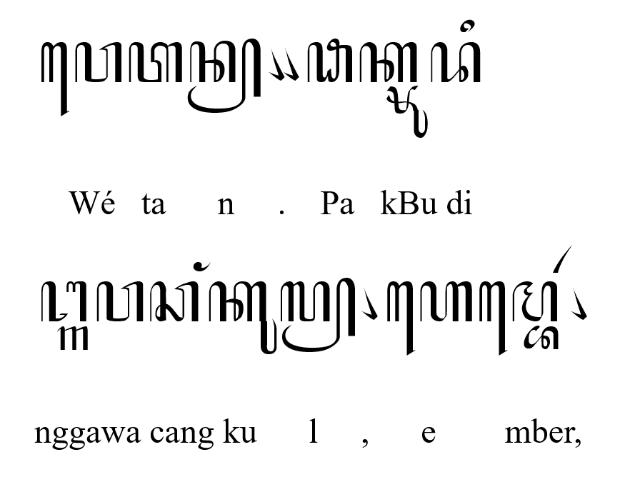-l: (280, 277, 356, 353)
-n: (186, 37, 262, 113)
Bu: (386, 84, 428, 138)
P: (306, 38, 354, 84)
_b: (522, 325, 560, 351)
_r1: (552, 244, 572, 274)
c: (150, 279, 200, 323)
d: (430, 42, 482, 84)
e1: (40, 41, 70, 117), (386, 280, 416, 356), (478, 281, 508, 357)
g: (57, 324, 89, 352)
h: (419, 281, 473, 323)
i: (459, 20, 475, 34)
k: (359, 41, 417, 83)
kom: (267, 48, 285, 82), (282, 47, 300, 81), (569, 286, 587, 320), (362, 285, 378, 321)
ku: (208, 280, 278, 356)
m: (512, 280, 560, 322)
ng: (192, 261, 212, 271)
nga: (40, 282, 88, 322)
t: (129, 40, 183, 84)
w: (75, 40, 123, 84), (96, 280, 144, 322)
